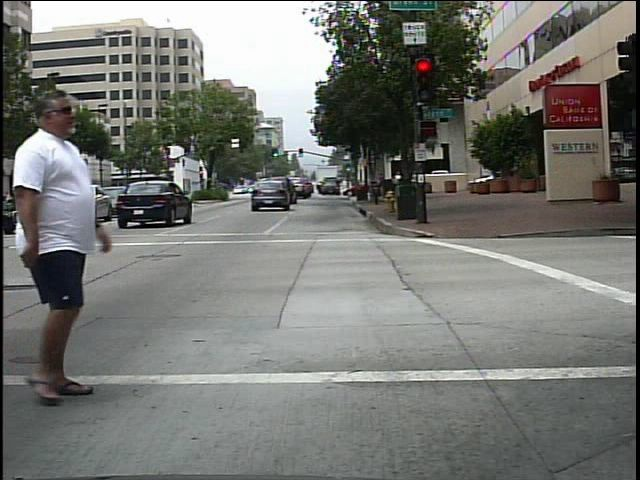person: (6, 89, 138, 402)
